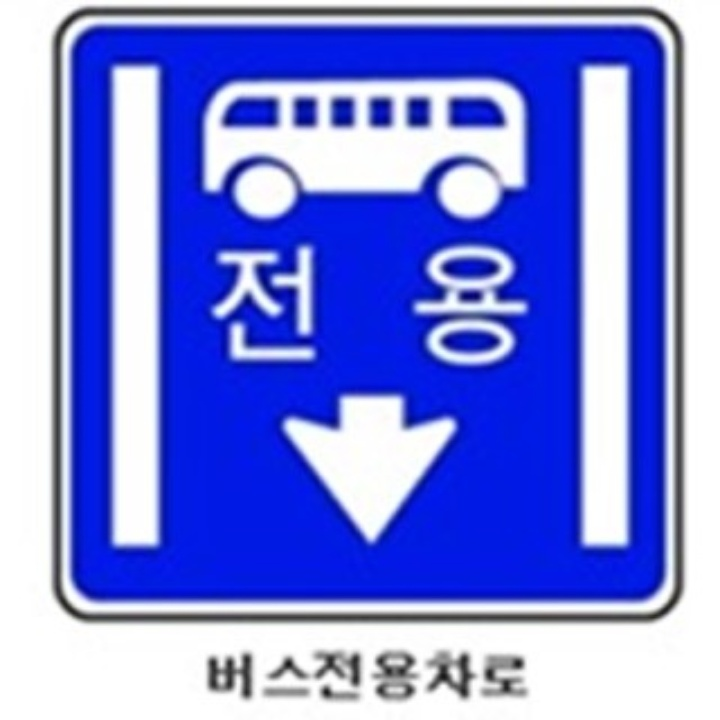bus: (184, 48, 549, 229)
